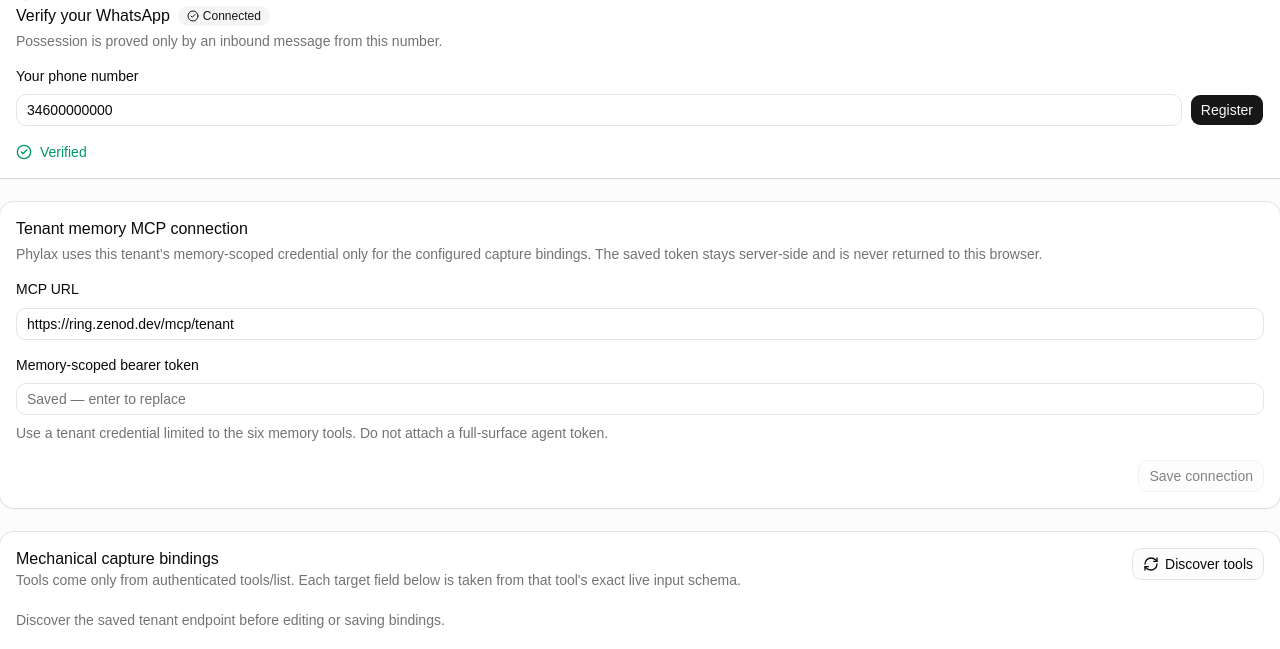
Test: Phylax tenant transcription settings › uses authenticated discovery for exact tool choices and structured field mappings
The image size is (1280, 649).
Click the button "Discover tools": (1198, 564) left=1132, top=548, right=1264, bottom=580
(page scrolled)
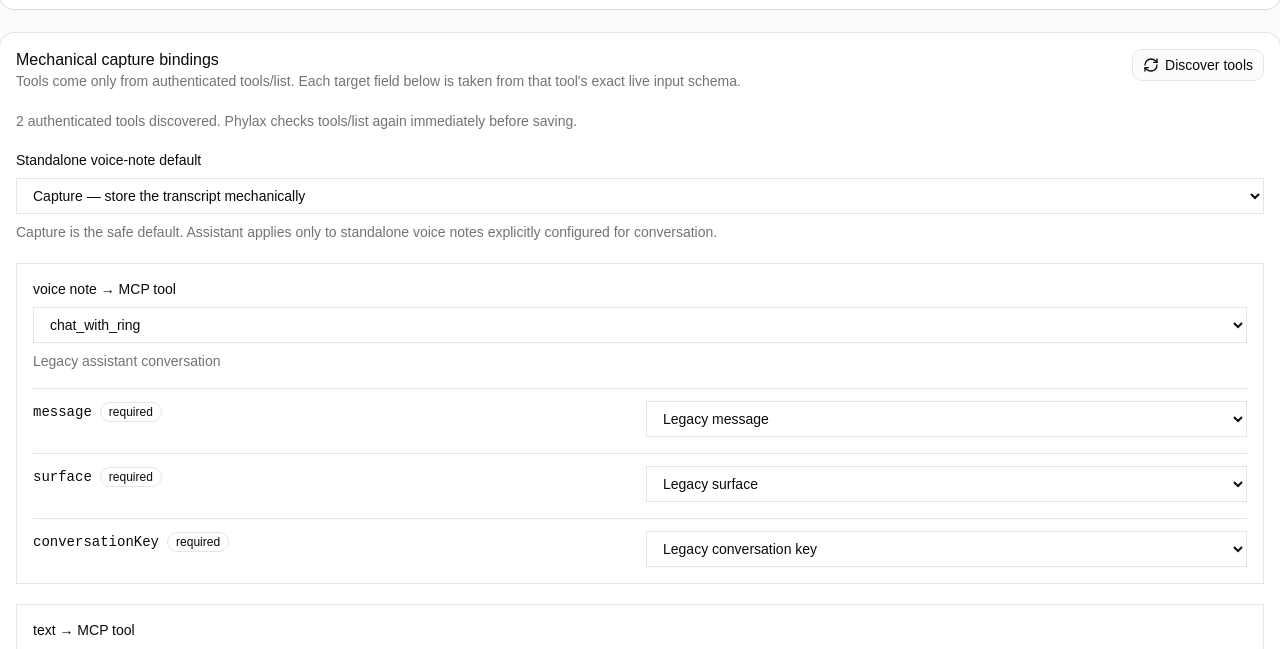
Expected: the text "2 authenticated tools discovered. Phylax checks tools/list again immediately before saving." is shown, left=16, top=113, right=577, bottom=129
Select "store_memory" in the dropdown labelled "voice note → MCP tool": (640, 325) left=33, top=307, right=1247, bottom=343
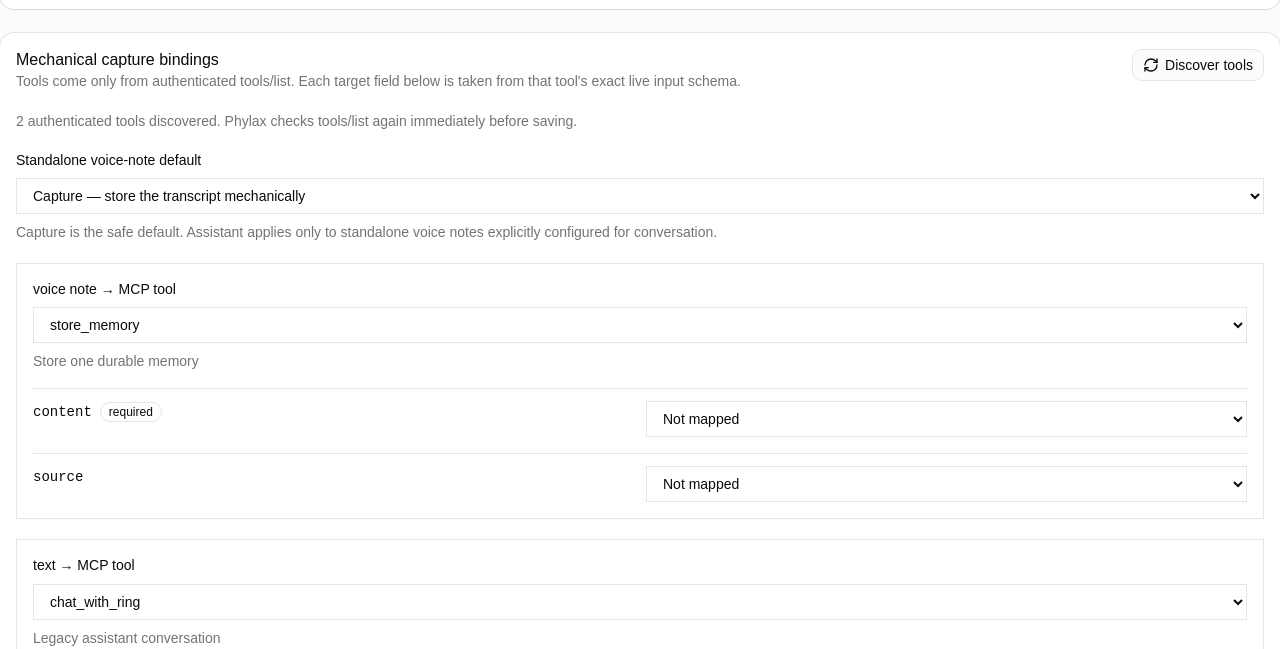
Expected: the dropdown named "voice_note content source" is shown, left=646, top=401, right=1247, bottom=437
Expected: the dropdown named "voice_note source source" is shown, left=646, top=466, right=1247, bottom=502
